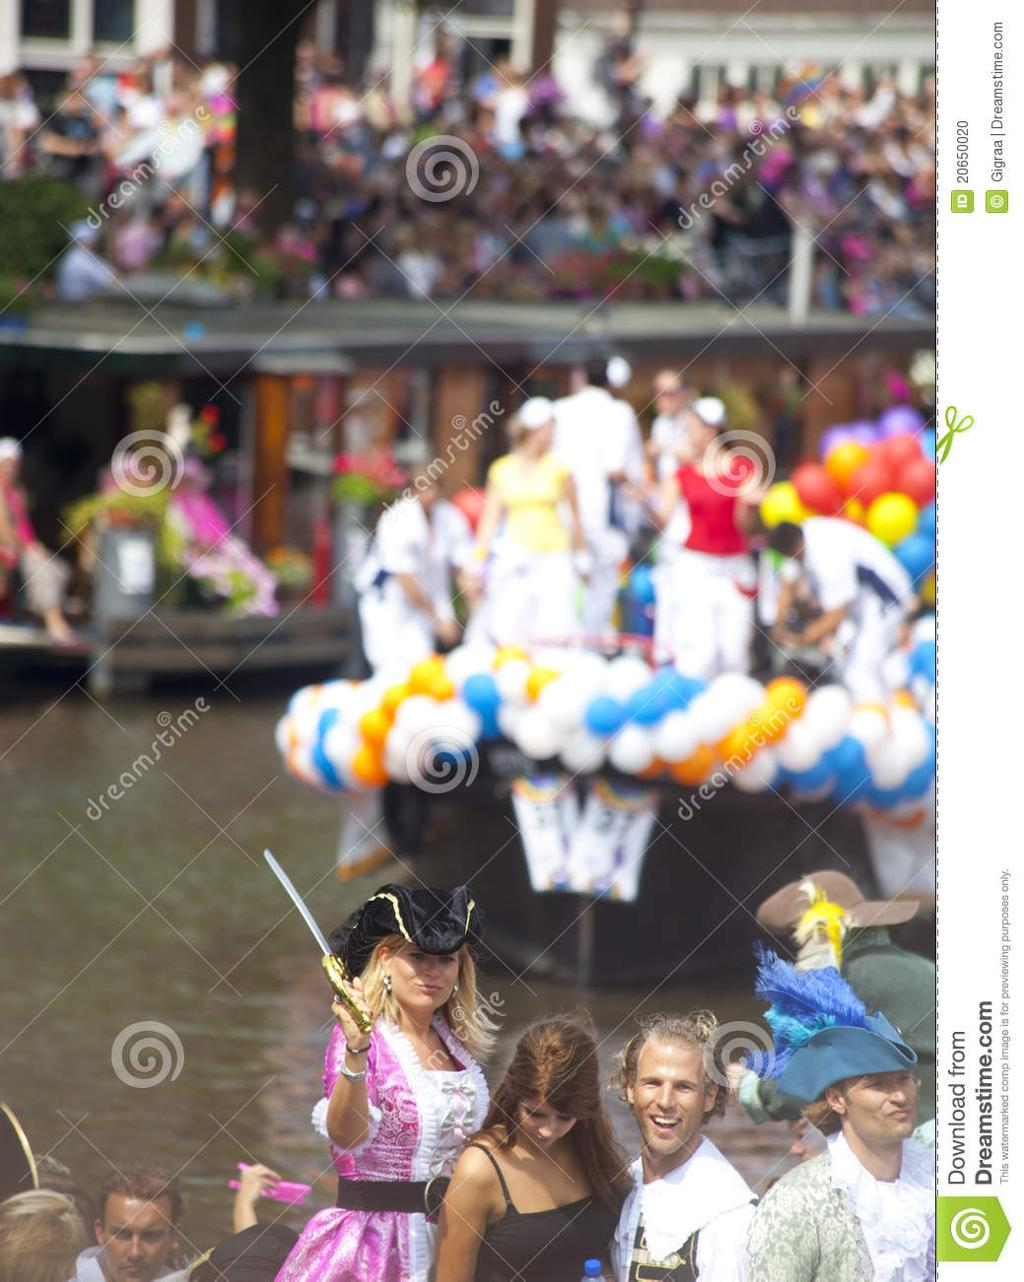face: (641, 1034, 709, 1149), (393, 924, 461, 1012), (103, 1199, 173, 1277), (851, 1057, 911, 1140), (521, 1082, 576, 1155)
